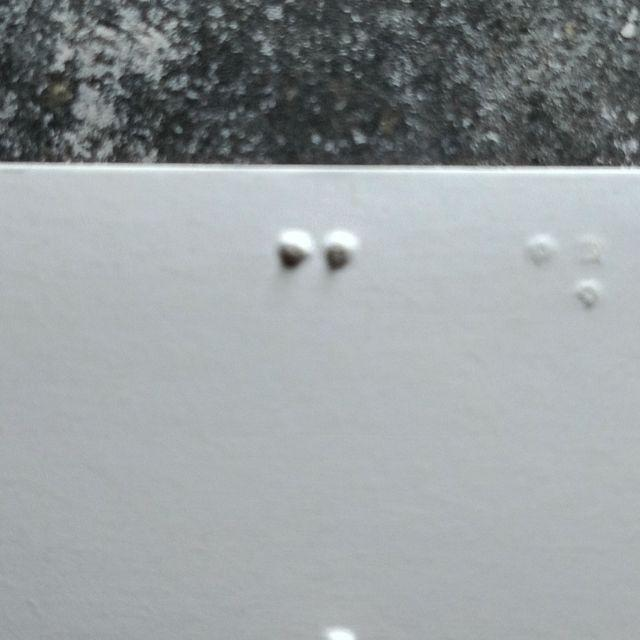c: (275, 226, 357, 360)
